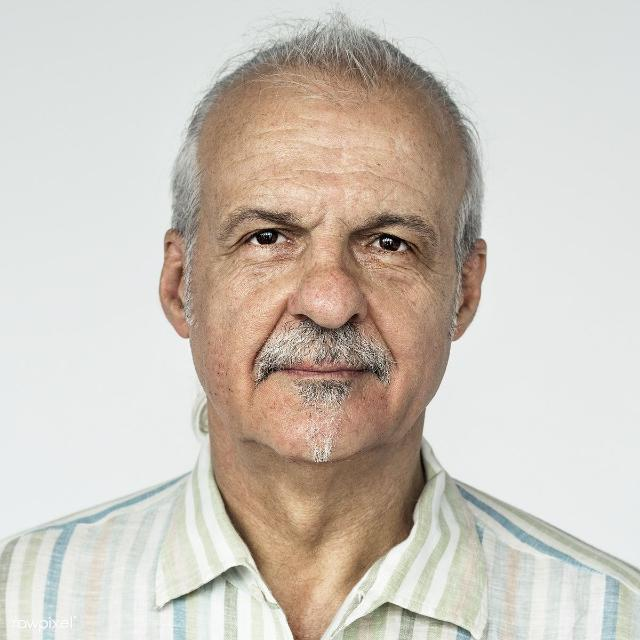crows_feet: (416, 242, 434, 280), (213, 240, 239, 266)
forehead: (288, 160, 420, 190), (291, 130, 395, 156)
frown_line: (308, 212, 326, 236)
gummy_smile: (254, 302, 286, 354), (367, 312, 397, 366)
